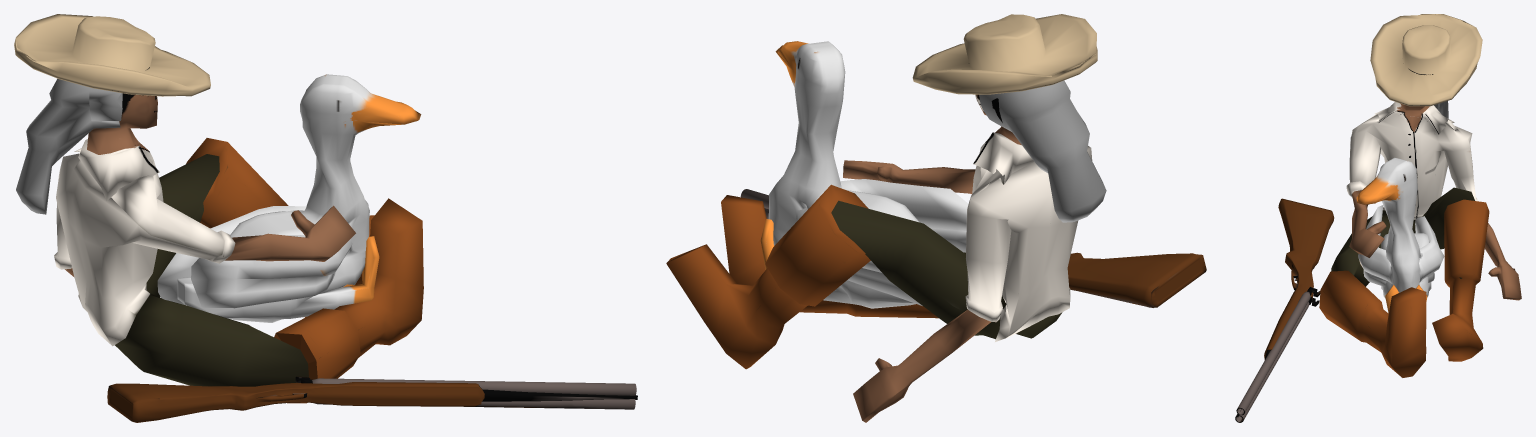
Rendered from idle_1.obj.
3 renders of one model, left to right at view 1: azimuth 30°, elevation 25°; view 2: azimuth 150°, elevation 25°; view 3: azimuth 270°, elevation 25°, orthographic. The views are drawn at different scales.
Parts seen in each view (by area): view 1: Default_Body_Cube, Cube.005, SHOTGUN_Cube.007, Hat_Cylinder, Hair_Cube.004; view 2: Default_Body_Cube, Cube.005, Hat_Cylinder, Hair_Cube.004, SHOTGUN_Cube.007; view 3: Default_Body_Cube, Hat_Cylinder, Cube.005, SHOTGUN_Cube.007.
Boxes of the visible parts, x1,y1,x2,y2 form: Default_Body_Cube: (54,93,423,403); Cube.005: (157,74,421,322); SHOTGUN_Cube.007: (107,376,637,422); Hat_Cylinder: (14,14,210,96); Hair_Cube.004: (16,78,122,214); Default_Body_Cube: (666,94,1092,422); Cube.005: (760,41,968,308); Hat_Cylinder: (912,14,1097,94); Hair_Cube.004: (979,80,1106,222); SHOTGUN_Cube.007: (740,189,1206,307); Default_Body_Cube: (1319,73,1521,377); Hat_Cylinder: (1370,14,1482,106); Cube.005: (1356,157,1444,313); SHOTGUN_Cube.007: (1235,198,1334,422).
Bounding box in the file's own units: 6.85 × 5.15 × 5.14.
